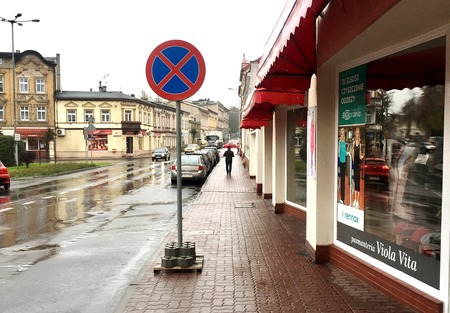no_stopping_sign: (145, 38, 206, 101)
